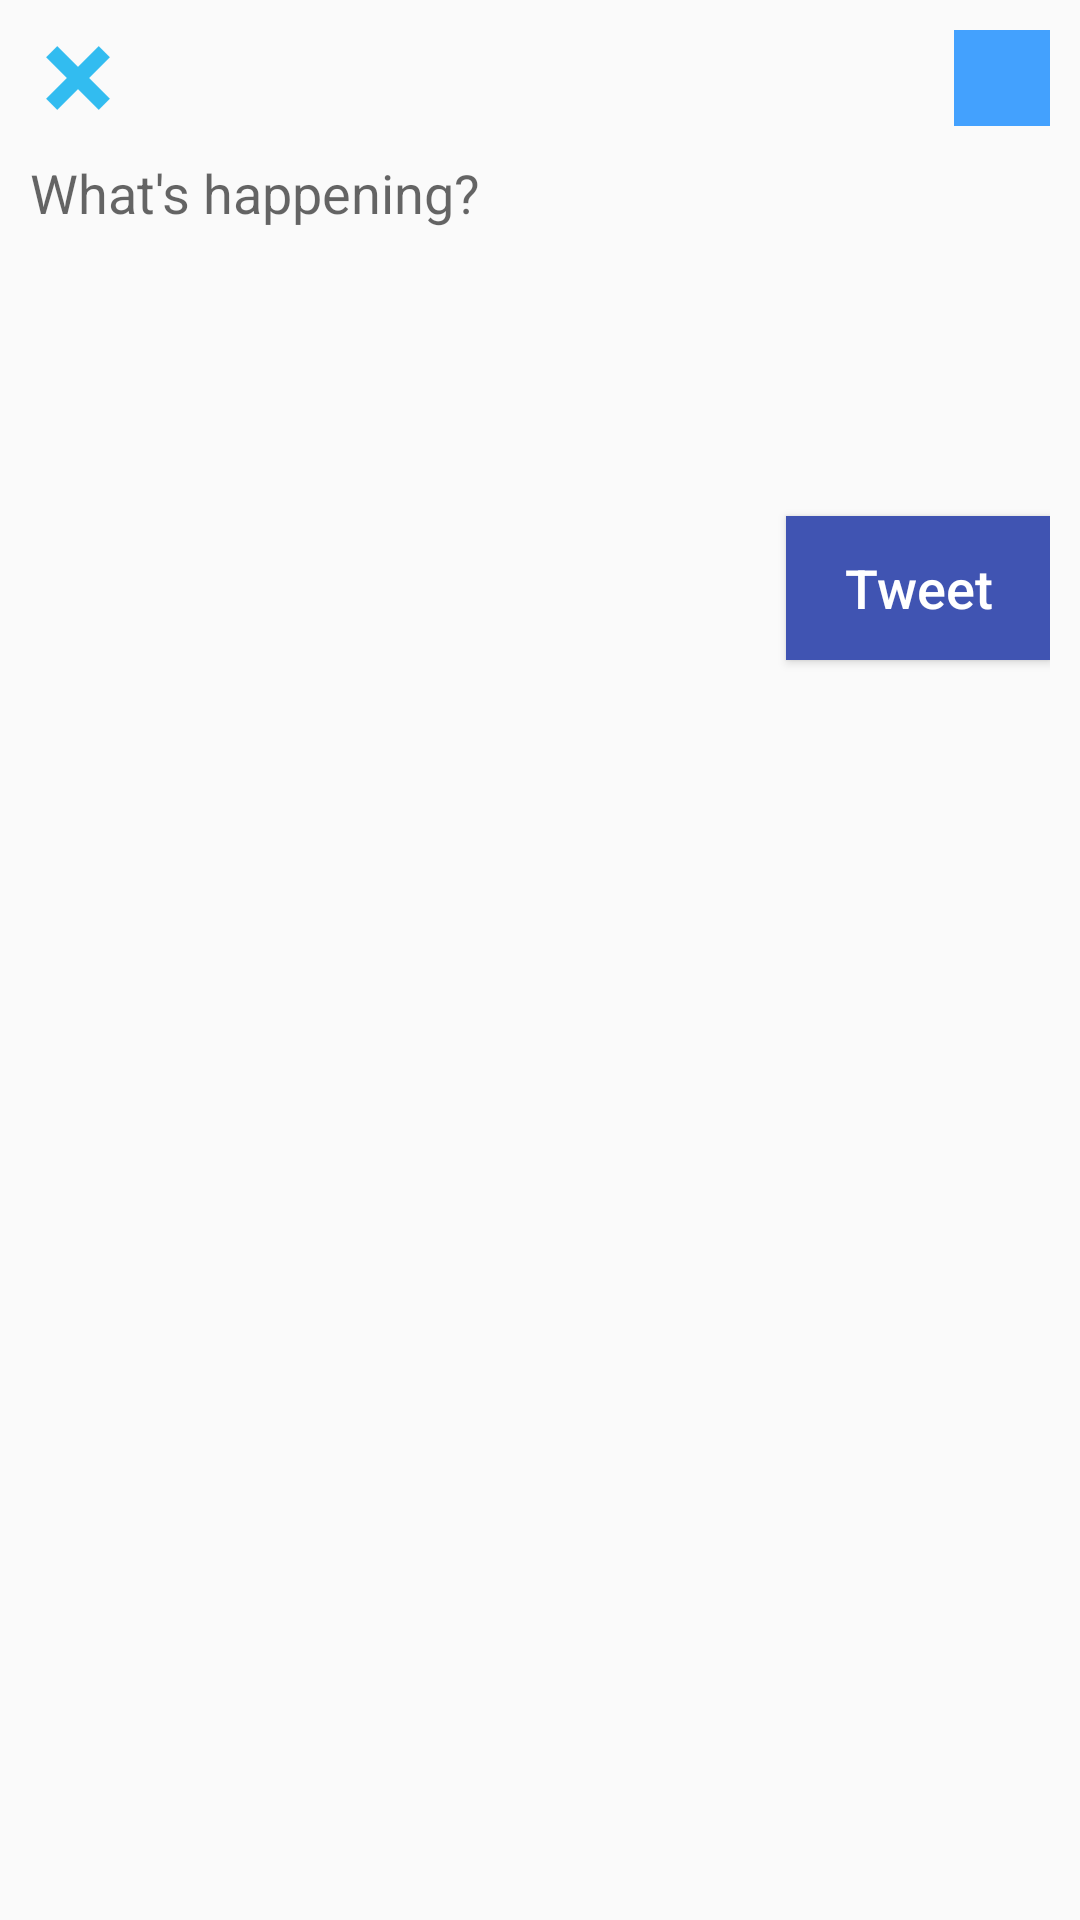

Where icons sit on this 1080×1920 app screen, as {"x1": x1, "y1": y1, "x2": x2, "y2": y2}:
Cancel: {"x1": 46, "y1": 46, "x2": 110, "y2": 110}
